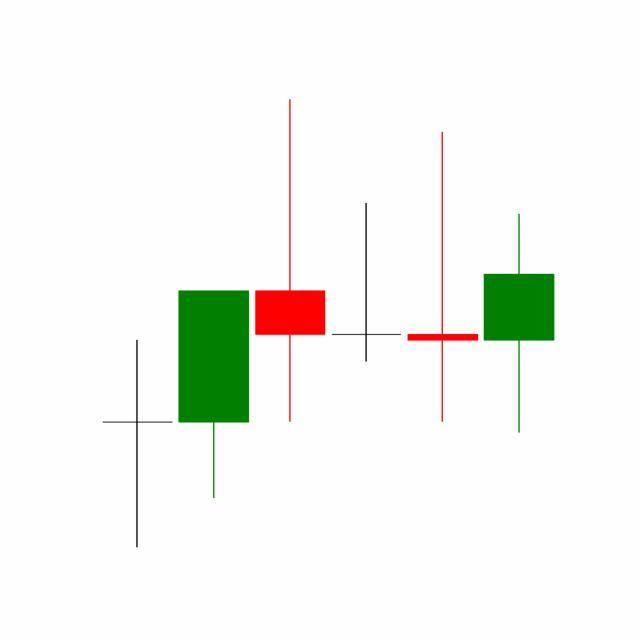Spinning Top: (404, 129, 482, 425)
